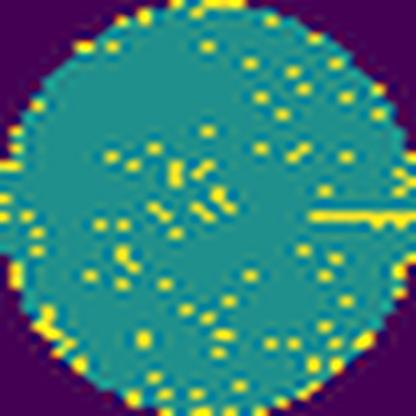Scratch: (301, 202, 416, 238)
